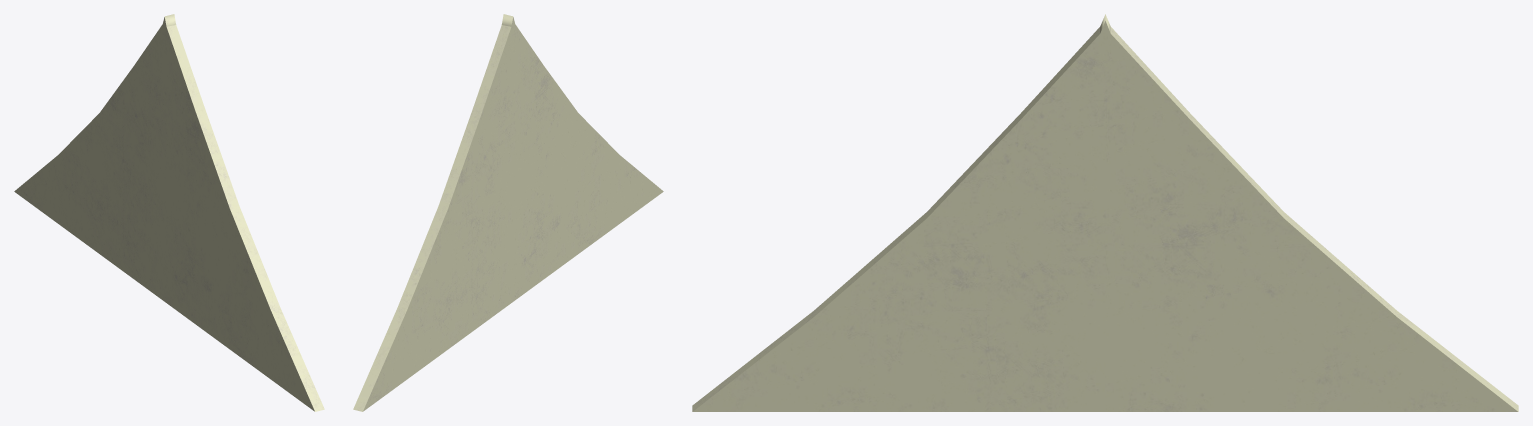
File: Roof End.fbx
3 views of the same model, side by side, from view 1: azimuth 30°, elevation 25°; view 2: azimuth 150°, elevation 25°; view 3: azimuth 270°, elevation 25° (orthographic). The views are drawn at different scales.
Parts seen in each view (by area): view 1: Roof_End; view 2: Roof_End; view 3: Roof_End.
Part boxes in pixels (x1,y1,x2,y2): Roof_End: (14, 14, 324, 411); Roof_End: (353, 14, 663, 411); Roof_End: (692, 14, 1518, 411).
Bounding box in the file's own units: 10.31 × 289 × 553.
